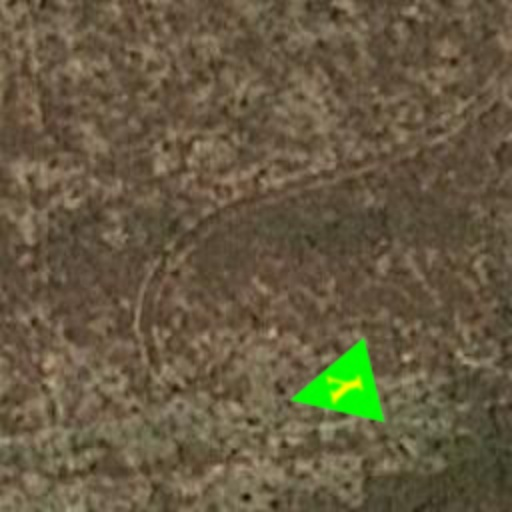triangle: (278, 336, 386, 444)
